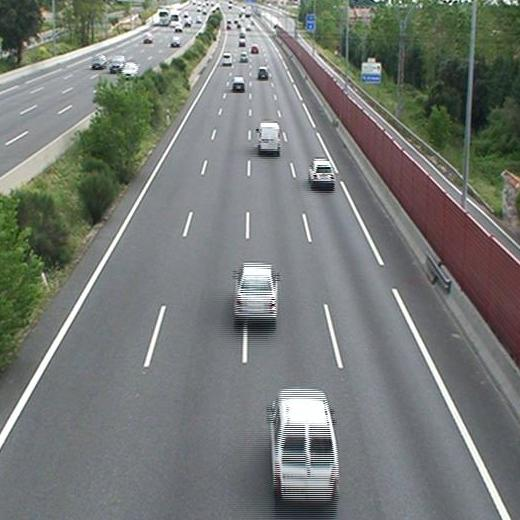car: (233, 264, 278, 318), (308, 161, 335, 186), (232, 77, 245, 90), (257, 66, 269, 79), (221, 52, 233, 63), (239, 52, 249, 61), (250, 45, 259, 53), (239, 38, 247, 47)
van: (271, 392, 337, 500), (257, 124, 280, 153)
